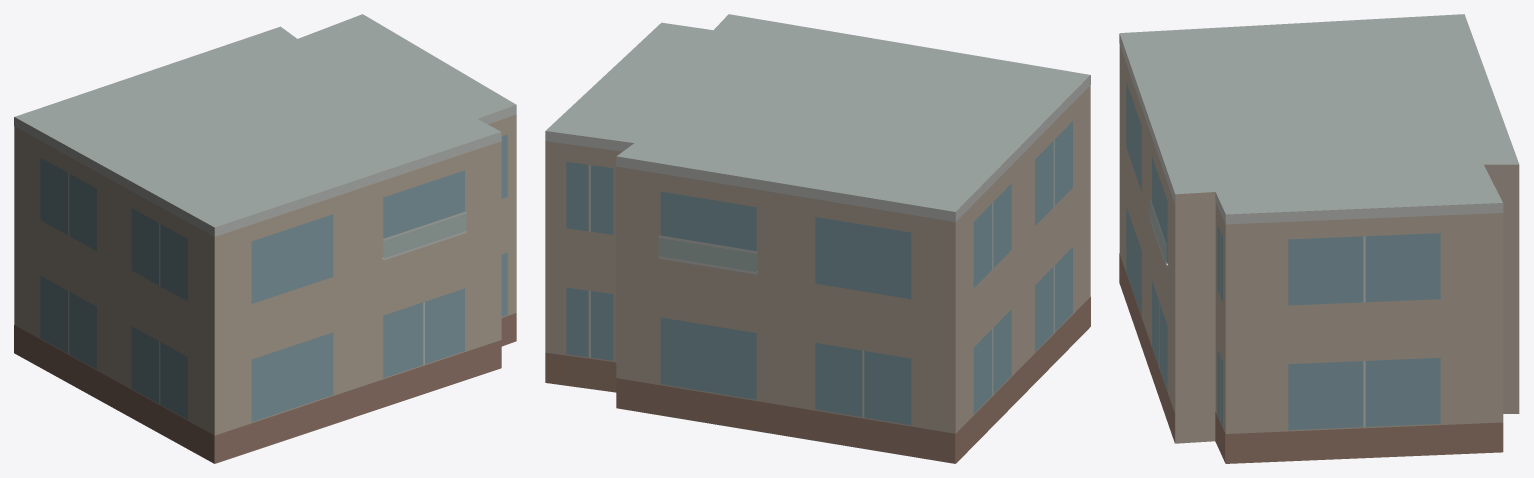
Rendered from survey-upis-32523885.glb.
The picture shows the model from 3 angles, left to right: view 1: azimuth 30°, elevation 25°; view 2: azimuth 150°, elevation 25°; view 3: azimuth 270°, elevation 25°; orthographic projection. The views are drawn at different scales.
Visible parts, largest first — view 1: survey-upis-32523885.tmp; view 2: survey-upis-32523885.tmp; view 3: survey-upis-32523885.tmp.
Boxes of the visible parts, x1,y1,x2,y2 form: survey-upis-32523885.tmp: (14,14,516,463); survey-upis-32523885.tmp: (545,14,1090,463); survey-upis-32523885.tmp: (1119,14,1519,463).
Size of the model in its own units: 10.53 by 6.1 by 8.88.
